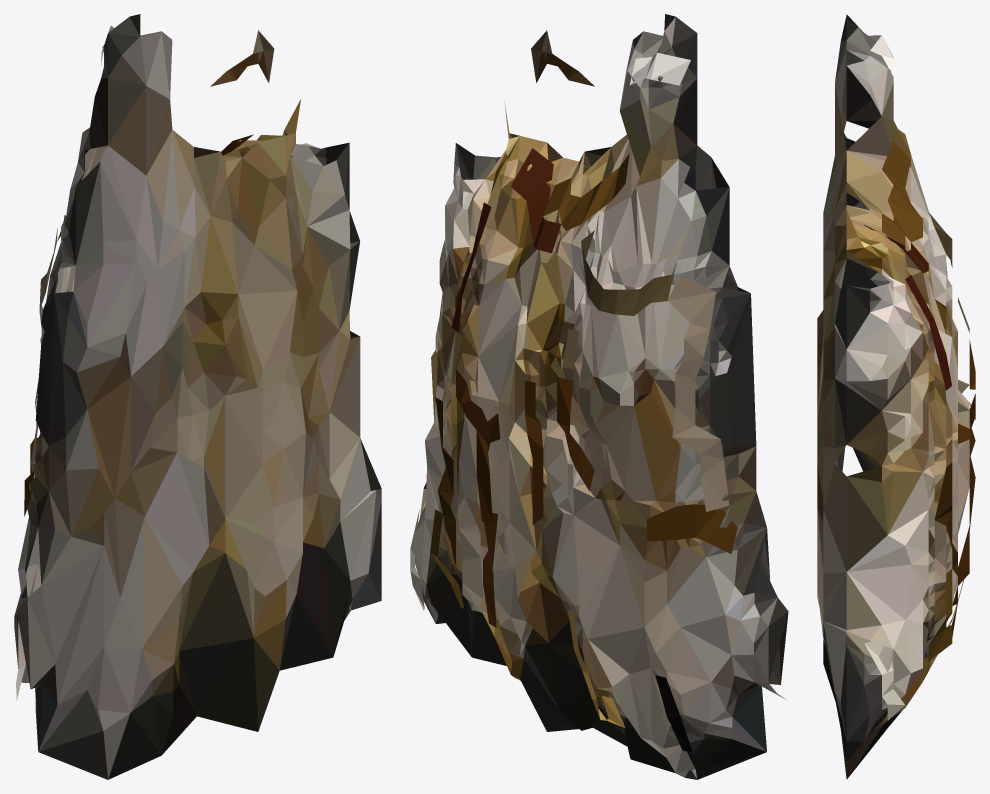
File: B08_1_seraph_feather_mantle.obj
The picture shows the model from 3 angles, left to right: view 1: azimuth 30°, elevation 25°; view 2: azimuth 150°, elevation 25°; view 3: azimuth 270°, elevation 25°; orthographic projection. The views are drawn at different scales.
Parts seen in each view (by area): view 1: B08_1_seraph_feather_mantle; view 2: B08_1_seraph_feather_mantle; view 3: B08_1_seraph_feather_mantle.
Boxes of the visible parts, x1,y1,x2,y2 form: B08_1_seraph_feather_mantle: [14, 14, 381, 779]; B08_1_seraph_feather_mantle: [410, 14, 788, 779]; B08_1_seraph_feather_mantle: [817, 14, 975, 779].
Bounding box in the file's own units: 68 × 135 × 27.
